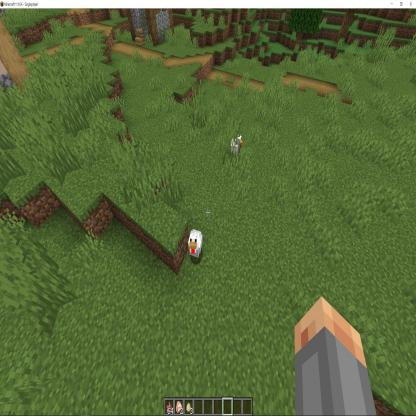minecraft-pigs: (188, 226, 204, 263), (227, 132, 244, 161)
